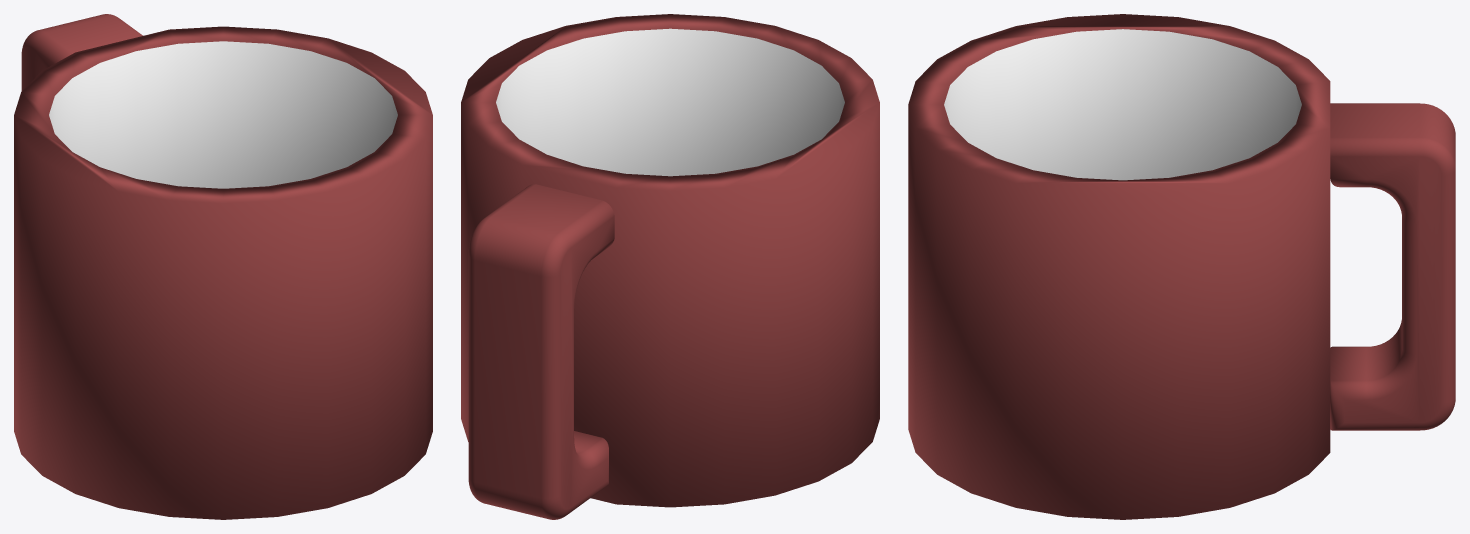
The picture shows the model from 3 angles, left to right: view 1: azimuth 30°, elevation 25°; view 2: azimuth 150°, elevation 25°; view 3: azimuth 270°, elevation 25°; orthographic projection. The views are drawn at different scales.
Parts seen in each view (by area): view 1: mesh2_mesh2-geometry_1, mesh2_mesh2-geometry, mesh1_mesh1-geometry; view 2: mesh2_mesh2-geometry_1, mesh2_mesh2-geometry, mesh1_mesh1-geometry; view 3: mesh2_mesh2-geometry_1, mesh2_mesh2-geometry, mesh1_mesh1-geometry.
Boxes of the visible parts, bbox=[...] form: mesh2_mesh2-geometry_1: bbox=[14, 26, 432, 519]; mesh2_mesh2-geometry: bbox=[49, 41, 397, 188]; mesh1_mesh1-geometry: bbox=[21, 14, 142, 90]; mesh2_mesh2-geometry_1: bbox=[461, 14, 879, 507]; mesh2_mesh2-geometry: bbox=[496, 28, 844, 176]; mesh1_mesh1-geometry: bbox=[468, 184, 614, 519]; mesh2_mesh2-geometry_1: bbox=[908, 14, 1330, 519]; mesh2_mesh2-geometry: bbox=[944, 29, 1301, 180]; mesh1_mesh1-geometry: bbox=[1330, 103, 1455, 430].
Bounding box in the file's own units: 0.5489 × 0.4574 × 0.6996.
